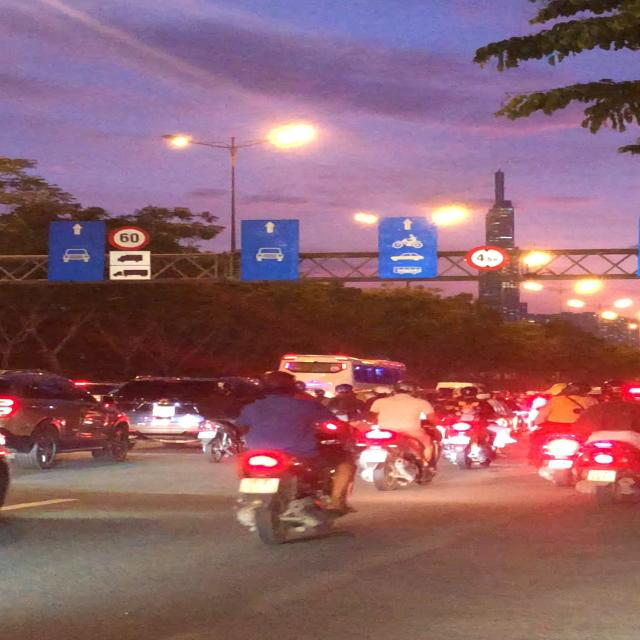Bien bao han che chieu cao: (464, 244, 510, 274)
Bien bao toc do toi da cho phep: (102, 222, 149, 252)
